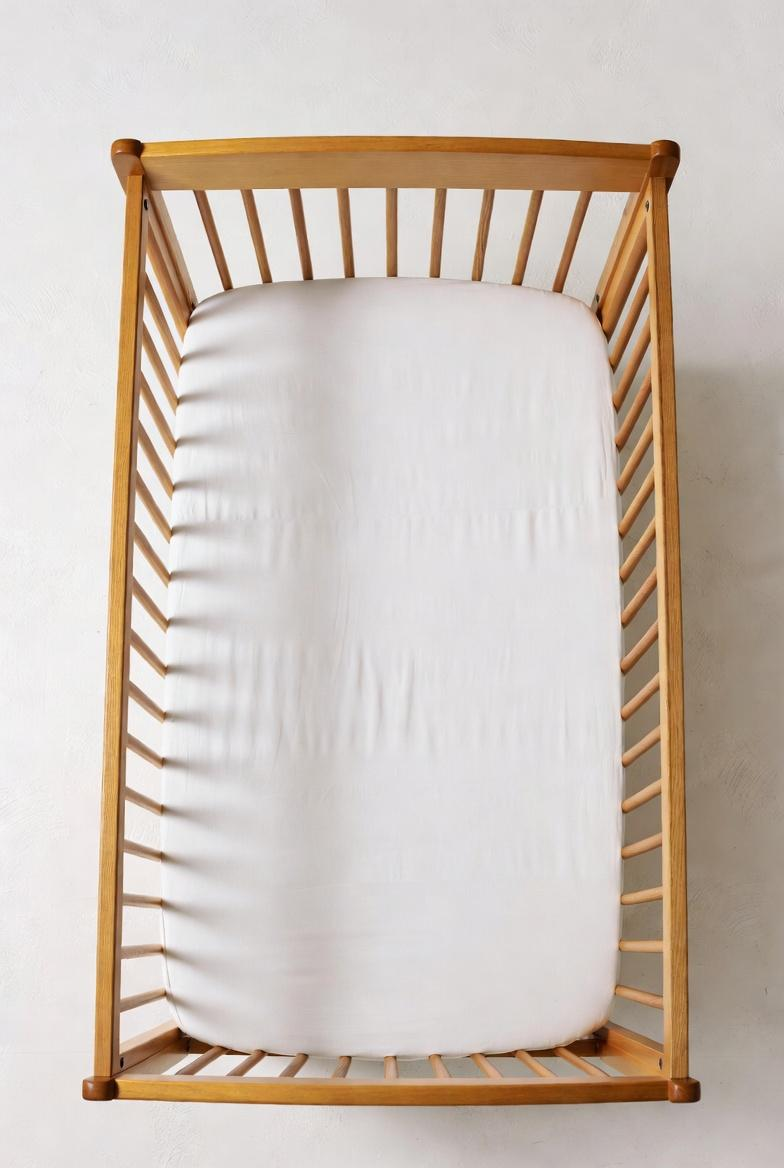crib: (84, 138, 699, 1105)
